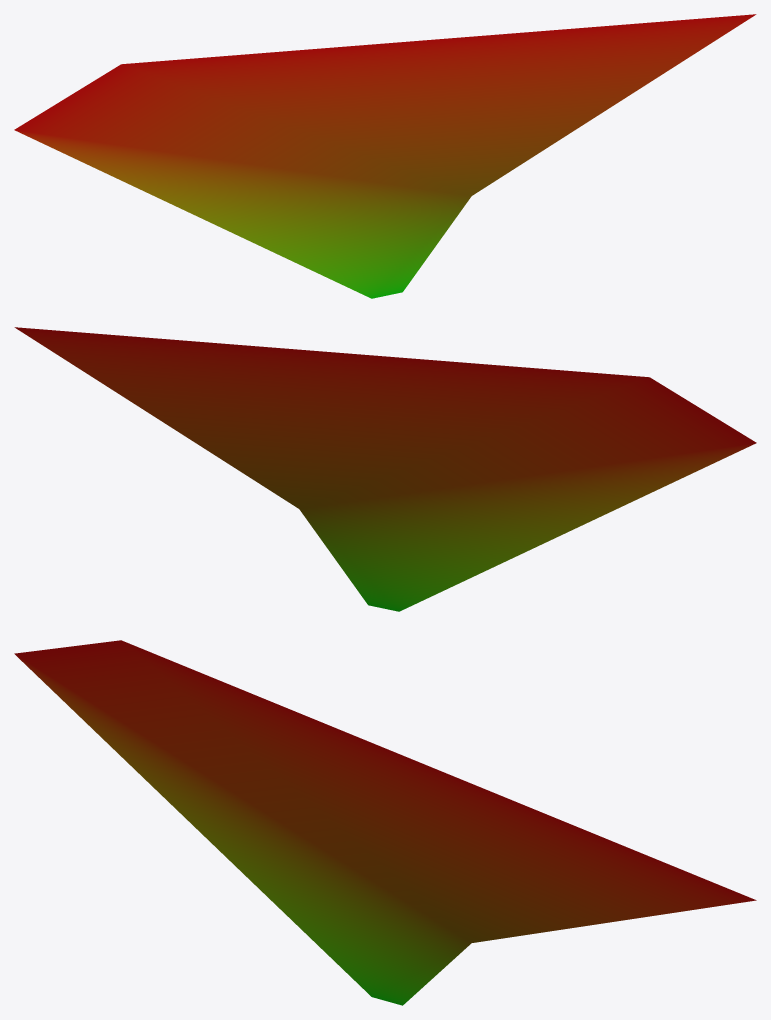
The model's file is Coltsfoot_LOD4_Var2_xbtkdfvqx.fbx.
3 renders of one model, top to bottom at view 1: azimuth 30°, elevation 25°; view 2: azimuth 150°, elevation 25°; view 3: azimuth 330°, elevation 25°, orthographic.
Parts seen in each view (by area): view 1: _l0zd_Var2_LOD4; view 2: _l0zd_Var2_LOD4; view 3: _l0zd_Var2_LOD4.
Boxes of the visible parts, left/top/right/bottom form: _l0zd_Var2_LOD4: left=14, top=14, right=756, bottom=298; _l0zd_Var2_LOD4: left=14, top=327, right=756, bottom=611; _l0zd_Var2_LOD4: left=14, top=640, right=756, bottom=1005.
Size of the model in its own units: 26.29 by 10.04 by 2.1e-07.
